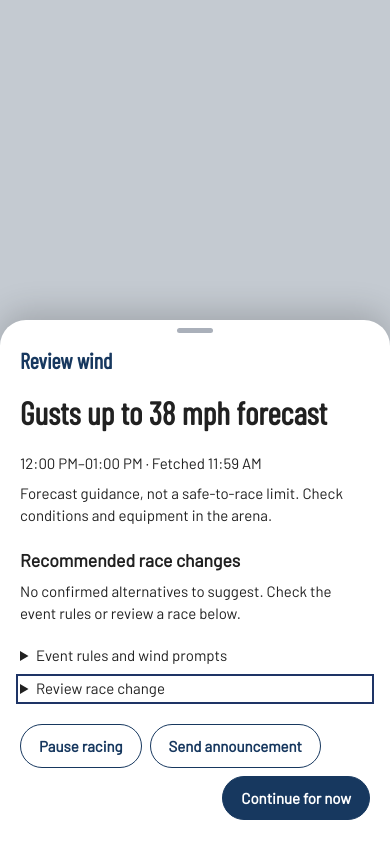
Test: wind rule settings › loads the saved rulebook, a section override and defaults for an unsaved section
Click the heading "Event rules and wind prompts": point(132, 654) [36,646,227,664]
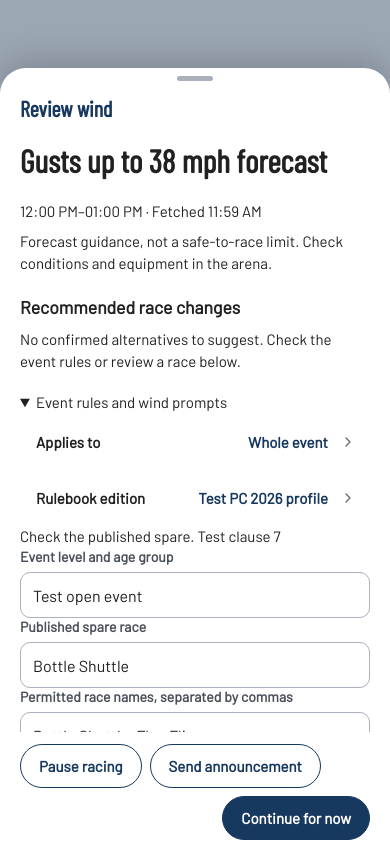
Check: the field labelled "Event level and age group" holds "Test open event", box [20,572,370,618]
Check: the text "Bottle Shuttle · Flag Fliers" is shown, box [20,759,186,777]
Click the button with aria-label "Applies to:": point(68, 442) [20,414,370,470]
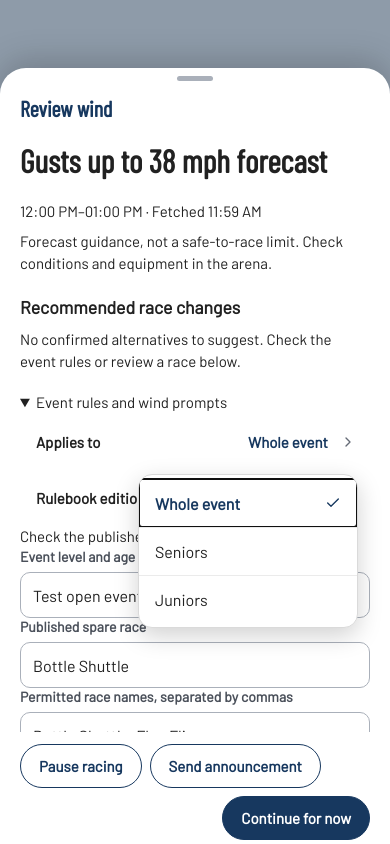
Click the option "Seniors": point(248, 551) [139,527,357,575]
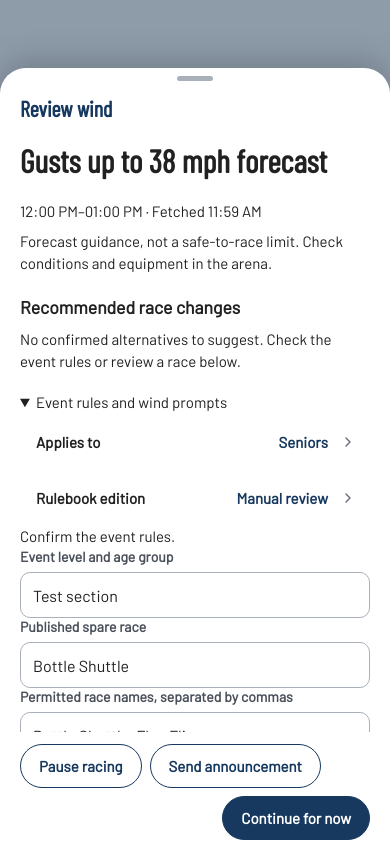
Check: the link "Test clause 7" is not shown
Check: the field labelled "Event level and age group" holds "Test section", box [20,572,370,618]
Check: the text "Confirm the event rules." is shown, box [20,527,175,545]
Click the button with aria-label "Applies to:": point(68, 442) [20,414,370,470]
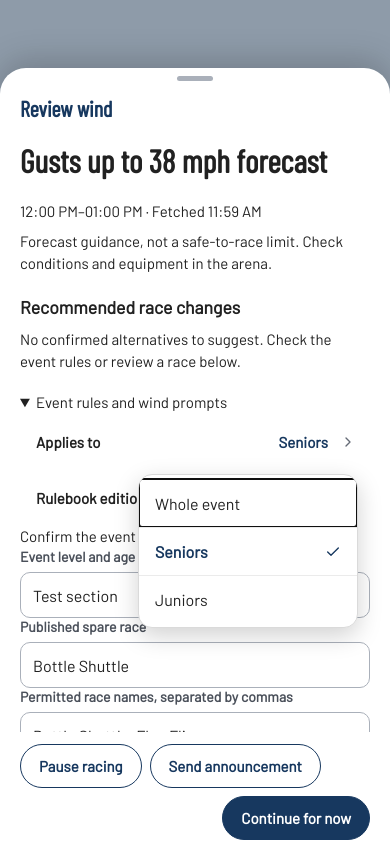
Click the option "Juniors": point(248, 599) [139,575,357,623]
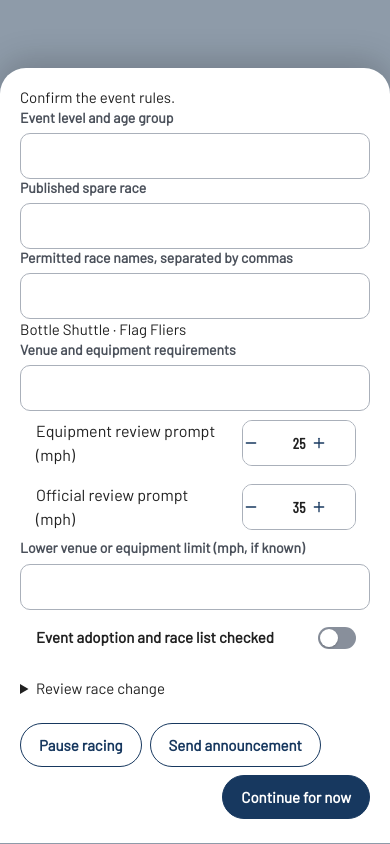
Check: the field labelled "Event level and age group" is empty, box [20,133,370,179]
Check: the switch named "Event adoption and race list checked" is not checked, box [318,626,356,648]
